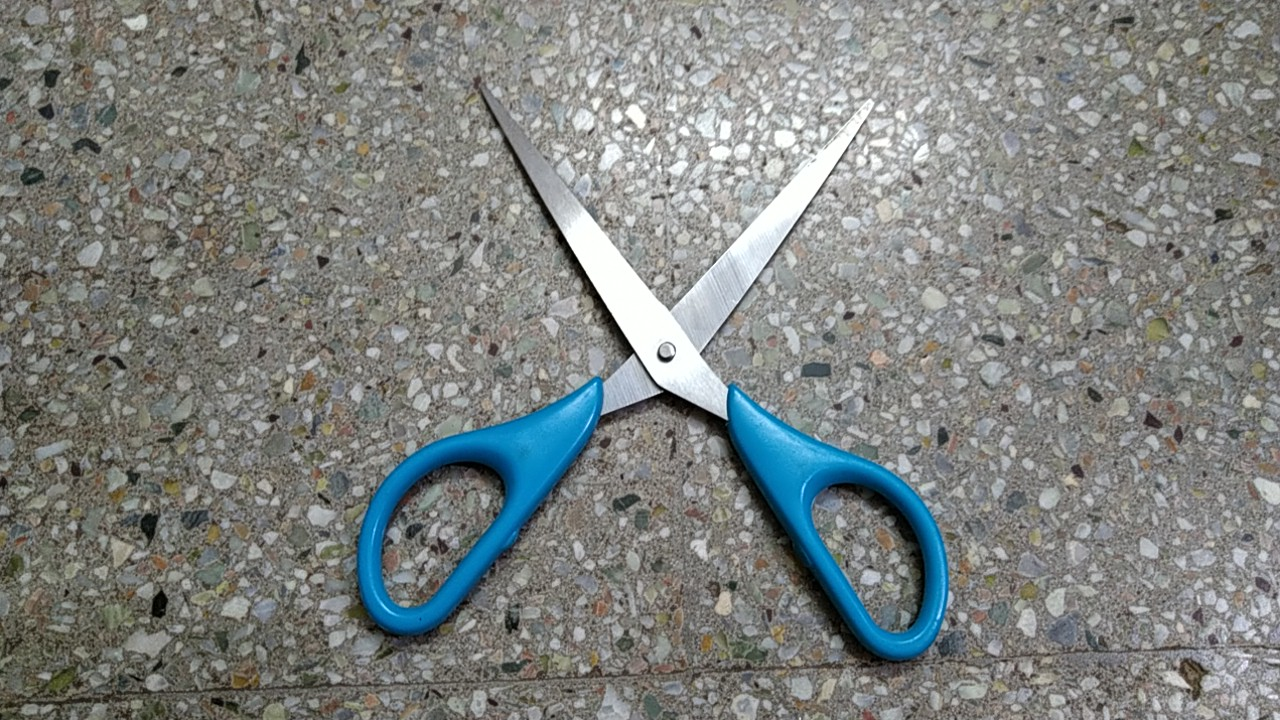scissor: (336, 57, 963, 681)
